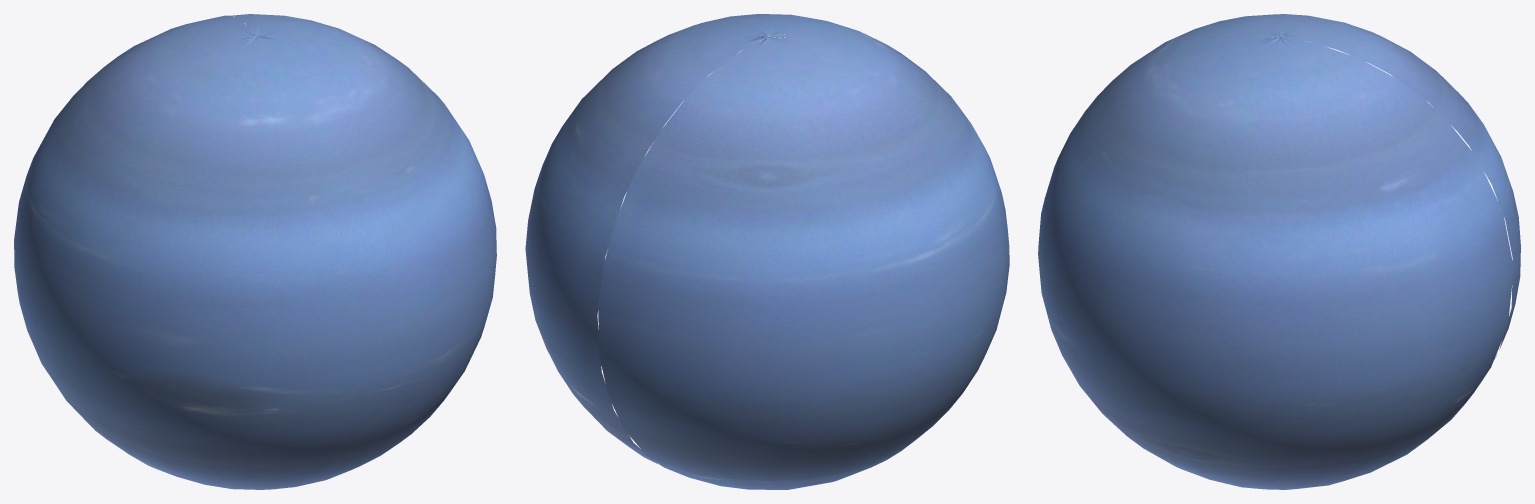
Rendered from Neptune_1_49528.glb.
3 views of the same model, side by side, from view 1: azimuth 30°, elevation 25°; view 2: azimuth 150°, elevation 25°; view 3: azimuth 270°, elevation 25° (orthographic).
Parts seen in each view (by area): view 1: Neptune; view 2: Neptune; view 3: Neptune.
Part boxes in pixels (x1,y1,x2,y2): Neptune: [14, 14, 496, 489]; Neptune: [525, 14, 1009, 489]; Neptune: [1038, 14, 1520, 489].
Bounding box in the file's own units: 1000 × 984 × 1001.
1 material, 1 textured.
